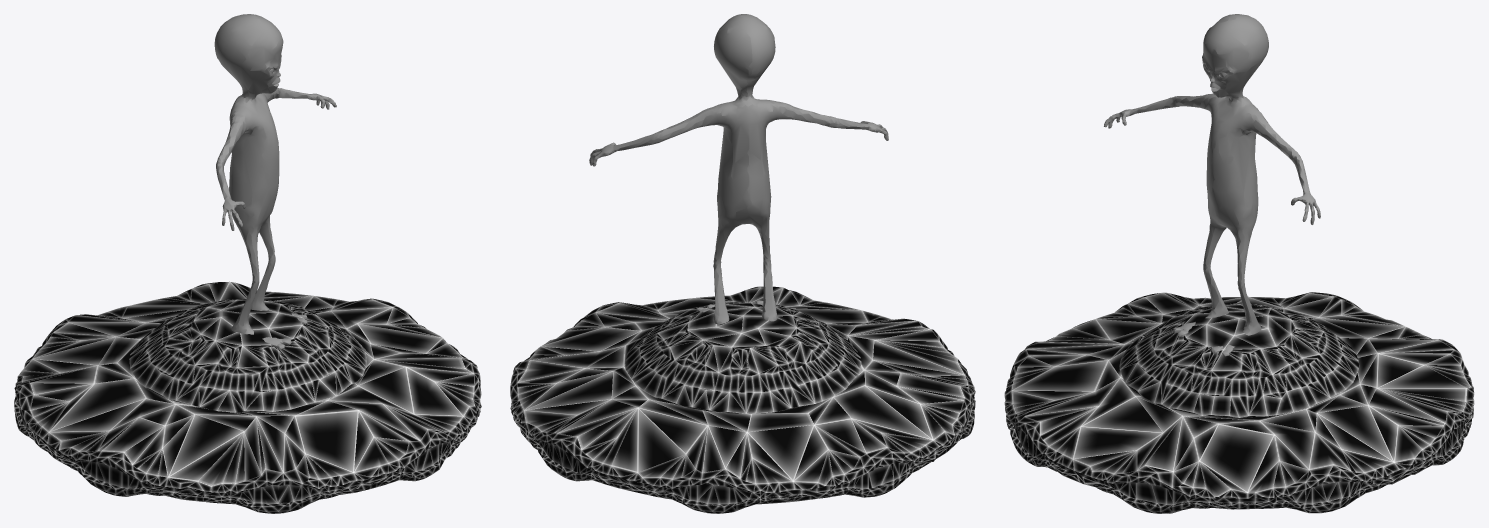
Rendered from frame_079.obj.
3 renders of one model, left to right at view 1: azimuth 30°, elevation 25°; view 2: azimuth 150°, elevation 25°; view 3: azimuth 270°, elevation 25°, orthographic.
Visible parts, largest first — view 1: 13884_UFO_Saucer_v1_l2, 10469_GrayAlien_v01; view 2: 13884_UFO_Saucer_v1_l2, 10469_GrayAlien_v01; view 3: 13884_UFO_Saucer_v1_l2, 10469_GrayAlien_v01.
Boxes of the visible parts, x1,y1,x2,y2 form: 13884_UFO_Saucer_v1_l2: (14,281,481,513); 10469_GrayAlien_v01: (214,14,336,349); 13884_UFO_Saucer_v1_l2: (510,286,975,513); 10469_GrayAlien_v01: (589,14,888,324); 13884_UFO_Saucer_v1_l2: (1004,292,1474,513); 10469_GrayAlien_v01: (1104,14,1320,356).
Size of the model in its own units: 12.69 by 13.86 by 12.7.
